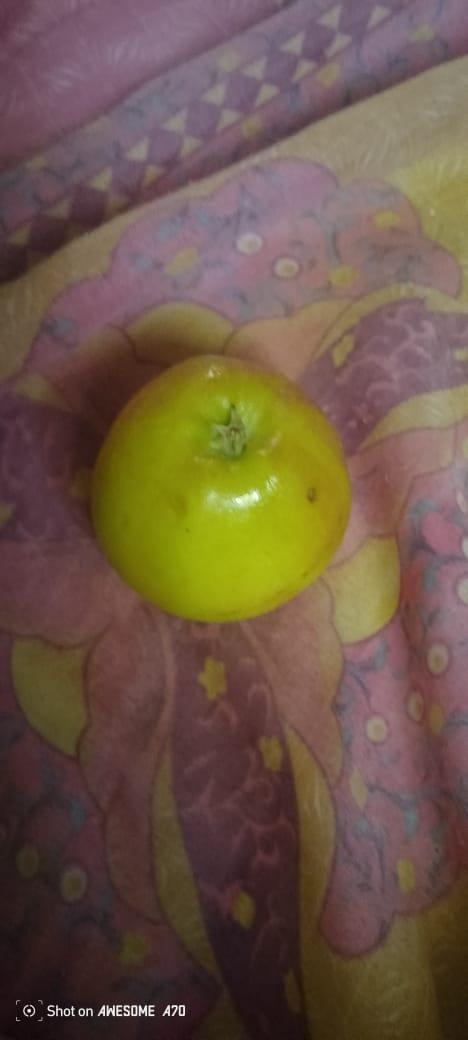non-mango: (92, 354, 353, 626)
